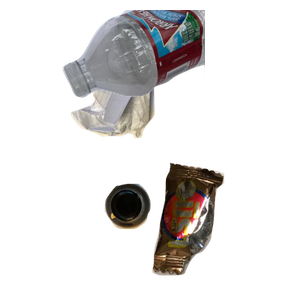glass: (102, 181, 246, 300)
paper: (68, 66, 215, 197)
plastic: (60, 10, 300, 100)
trash: (150, 160, 300, 300)
